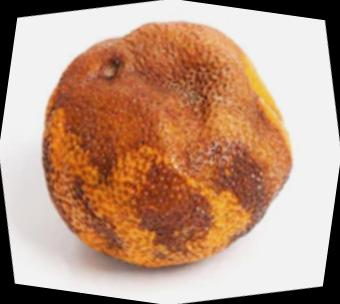Orange Rotten: (10, 0, 314, 294)
